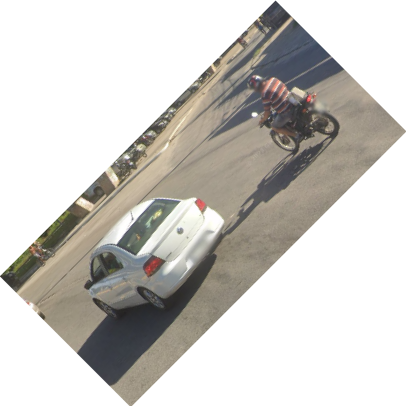car: (83, 192, 232, 325)
